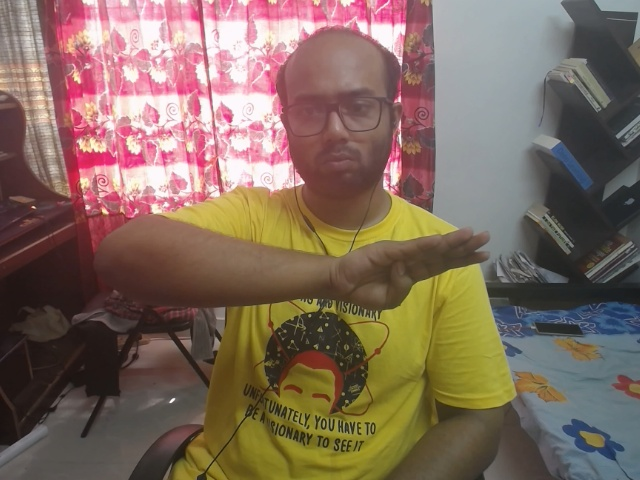counting: (328, 201, 499, 326)
